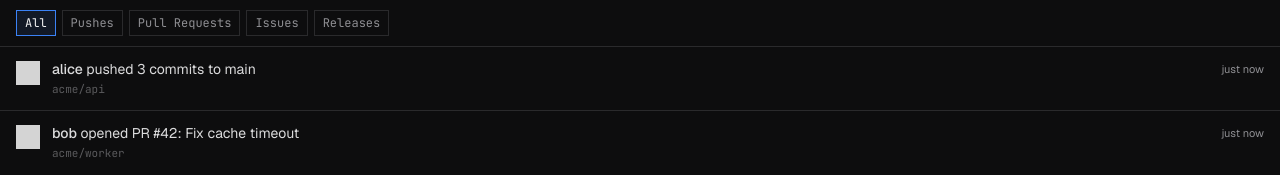
Test: EventFeed › filters to only pushes when the Pushes chip is clicked
Click the button "Pushes": coordinates (92, 23) x1=62 y1=10 x2=123 y2=36
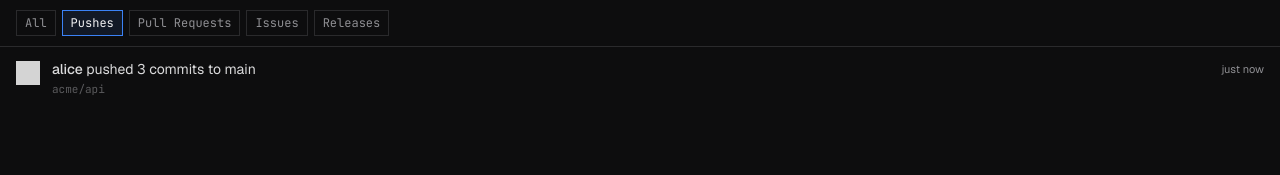
Check: the text "alice pushed 3 commits to main" is shown, box x1=52 y1=60 x2=256 y2=78
Check: the text "opened PR #42" is gone
